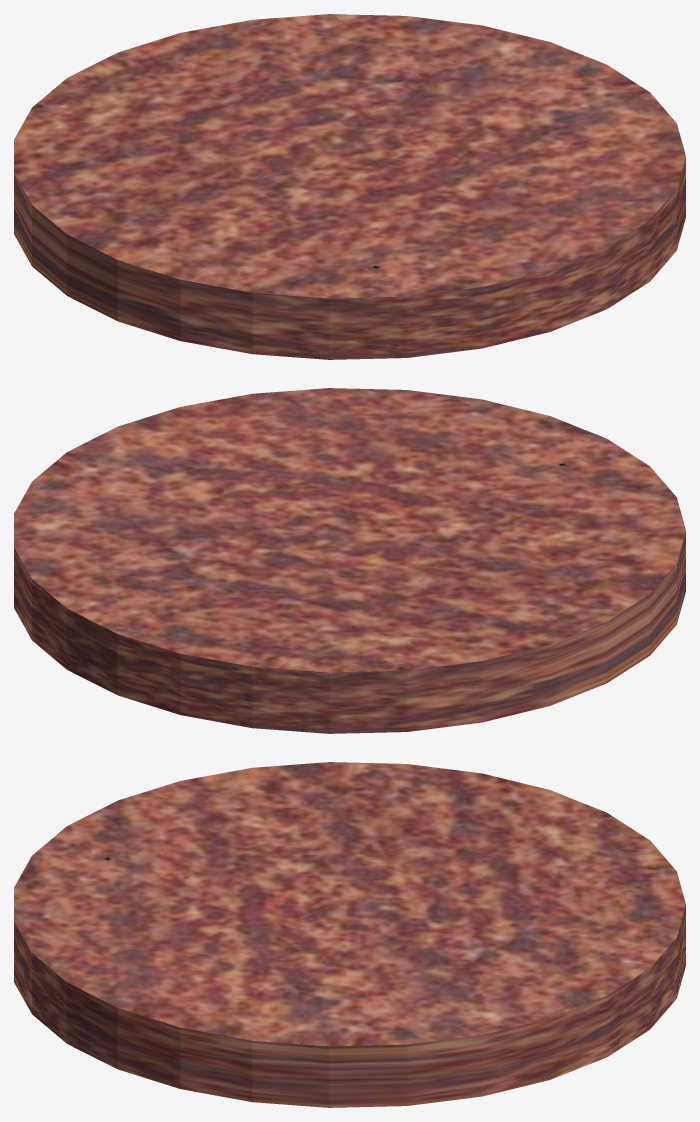
File: cutlet.fbx
3 views of the same model, one above another, from view 1: azimuth 30°, elevation 25°; view 2: azimuth 150°, elevation 25°; view 3: azimuth 270°, elevation 25° (orthographic).
Parts seen in each view (by area): view 1: Cylinder.012; view 2: Cylinder.012; view 3: Cylinder.012.
Boxes of the visible parts, x1=… form: Cylinder.012: x1=14, y1=14, x2=685, y2=359; Cylinder.012: x1=14, y1=388, x2=685, y2=733; Cylinder.012: x1=14, y1=762, x2=685, y2=1107.
Size of the model in its own units: 18.91 by 1.9 by 18.88.
1 material, 1 textured.
